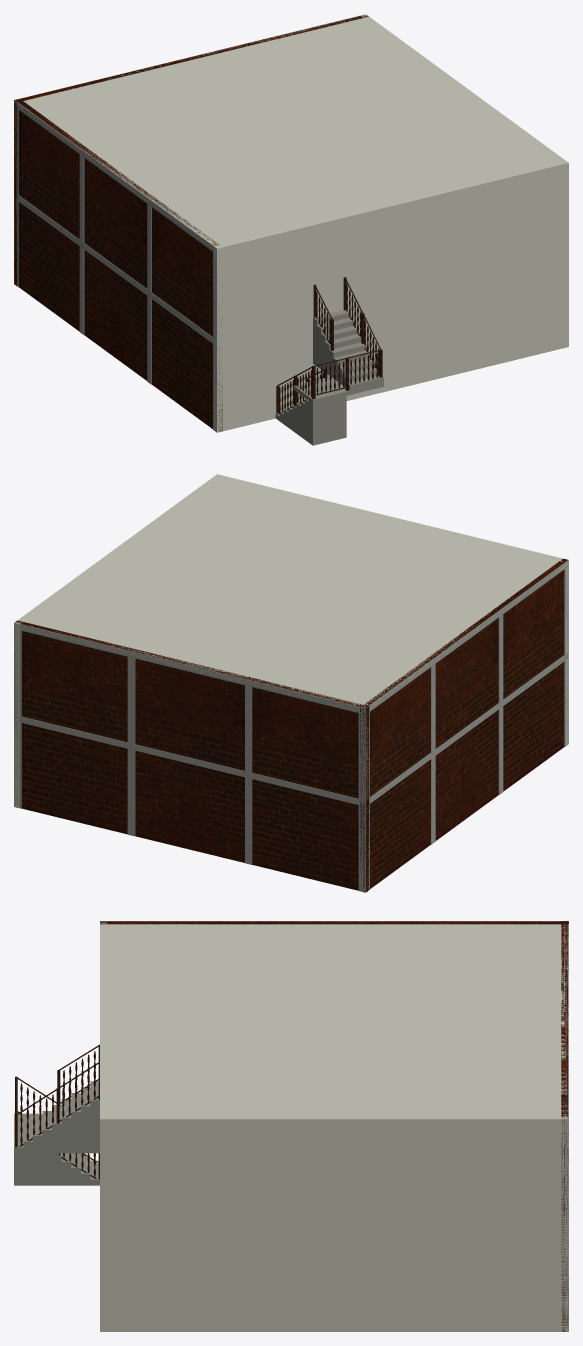
File: building.glb
3 views of the same model, one above another, from view 1: azimuth 30°, elevation 25°; view 2: azimuth 150°, elevation 25°; view 3: azimuth 270°, elevation 25° (orthographic). The views are drawn at different scales.
Parts seen in each view (by area): view 1: roof/house:0/roof_slab#0001, house:0/edge0/z0/house:0/edge0/z0/wall_0_0, house:0/edge3/z0/house:0/edge3/z0/wall_0_0, house:0/edge2/z0/house:0/edge2/z0/wall_0_0, house:0/edge0/z0/stair_00/exterior_stair_step#0009, house:0/edge1/z0/house:0/edge1/z0/wall_0_0, house:0/edge3/z0/house:0/edge3/z0/beam_1_0, house:0/edge3/z0/house:0/edge3/z0/beam_0_0, house:0/edge0/z0/stair_00/exterior_stair_landing#0001; view 2: roof/house:0/roof_slab#0001, house:0/edge2/z0/house:0/edge2/z0/wall_0_0, house:0/edge3/z0/house:0/edge3/z0/wall_0_0, house:0/edge2/z0/house:0/edge2/z0/beam_0_0, house:0/edge2/z0/house:0/edge2/z0/beam_1_0, house:0/edge1/z0/house:0/edge1/z0/wall_0_0, house:0/edge0/z0/house:0/edge0/z0/wall_0_0, house:0/edge3/z0/house:0/edge3/z0/beam_0_0, house:0/edge3/z0/house:0/edge3/z0/beam_1_0, house:0/edge2/z0/house:0/edge2/z0/column_2_0, house:0/edge2/z0/house:0/edge2/z0/column_2_1, house:0/edge2/z0/house:0/edge2/z0/column_1_1 (+3 smaller); view 3: house:0/edge1/z0/house:0/edge1/z0/wall_0_0, roof/house:0/roof_slab#0001, house:0/edge0/z0/house:0/edge0/z0/wall_0_0, house:0/edge2/z0/house:0/edge2/z0/wall_0_0, house:0/edge3/z0/house:0/edge3/z0/wall_0_0, house:0/edge0/z0/stair_00/exterior_stair_step#0018, house:0/edge0/z0/stair_00/exterior_stair_step#0017, house:0/edge0/z0/stair_00/exterior_stair_step#0016, house:0/edge0/z0/stair_00/exterior_stair_step#0015.
Boxes of the visible parts, x1=… form: roof/house:0/roof_slab#0001: x1=14, y1=14, x2=568, y2=251; house:0/edge0/z0/house:0/edge0/z0/wall_0_0: x1=213, y1=160, x2=568, y2=432; house:0/edge3/z0/house:0/edge3/z0/wall_0_0: x1=15, y1=99, x2=222, y2=431; house:0/edge2/z0/house:0/edge2/z0/wall_0_0: x1=14, y1=15, x2=368, y2=285; house:0/edge0/z0/stair_00/exterior_stair_step#0009: x1=309, y1=389, x2=346, y2=445; house:0/edge1/z0/house:0/edge1/z0/wall_0_0: x1=360, y1=14, x2=568, y2=348; house:0/edge3/z0/house:0/edge3/z0/beam_1_0: x1=14, y1=100, x2=216, y2=253; house:0/edge3/z0/house:0/edge3/z0/beam_0_0: x1=14, y1=194, x2=216, y2=346; house:0/edge0/z0/stair_00/exterior_stair_landing#0001: x1=293, y1=377, x2=383, y2=400; roof/house:0/roof_slab#0001: x1=14, y1=474, x2=568, y2=712; house:0/edge2/z0/house:0/edge2/z0/wall_0_0: x1=15, y1=620, x2=369, y2=892; house:0/edge3/z0/house:0/edge3/z0/wall_0_0: x1=360, y1=558, x2=567, y2=892; house:0/edge2/z0/house:0/edge2/z0/beam_0_0: x1=14, y1=715, x2=365, y2=806; house:0/edge2/z0/house:0/edge2/z0/beam_1_0: x1=15, y1=623, x2=365, y2=714; house:0/edge1/z0/house:0/edge1/z0/wall_0_0: x1=14, y1=475, x2=219, y2=808; house:0/edge0/z0/house:0/edge0/z0/wall_0_0: x1=214, y1=474, x2=568, y2=745; house:0/edge3/z0/house:0/edge3/z0/beam_0_0: x1=365, y1=653, x2=568, y2=806; house:0/edge3/z0/house:0/edge3/z0/beam_1_0: x1=365, y1=560, x2=568, y2=712; house:0/edge2/z0/house:0/edge2/z0/column_2_0: x1=127, y1=657, x2=135, y2=744; house:0/edge2/z0/house:0/edge2/z0/column_2_1: x1=127, y1=749, x2=135, y2=836; house:0/edge2/z0/house:0/edge2/z0/column_1_1: x1=358, y1=713, x2=365, y2=800; house:0/edge1/z0/house:0/edge1/z0/wall_0_0: x1=100, y1=1116, x2=568, y2=1331; roof/house:0/roof_slab#0001: x1=100, y1=921, x2=568, y2=1124; house:0/edge0/z0/house:0/edge0/z0/wall_0_0: x1=100, y1=921, x2=107, y2=1331; house:0/edge2/z0/house:0/edge2/z0/wall_0_0: x1=561, y1=921, x2=568, y2=1331; house:0/edge3/z0/house:0/edge3/z0/wall_0_0: x1=100, y1=921, x2=568, y2=924; house:0/edge0/z0/stair_00/exterior_stair_step#0018: x1=90, y1=1081, x2=99, y2=1153; house:0/edge0/z0/stair_00/exterior_stair_step#0017: x1=81, y1=1087, x2=90, y2=1153; house:0/edge0/z0/stair_00/exterior_stair_step#0016: x1=71, y1=1093, x2=80, y2=1153; house:0/edge0/z0/stair_00/exterior_stair_step#0015: x1=61, y1=1099, x2=71, y2=1153.
Size of the model in its own units: 12 by 6 by 14.2.
5 materials, 2 textured.
